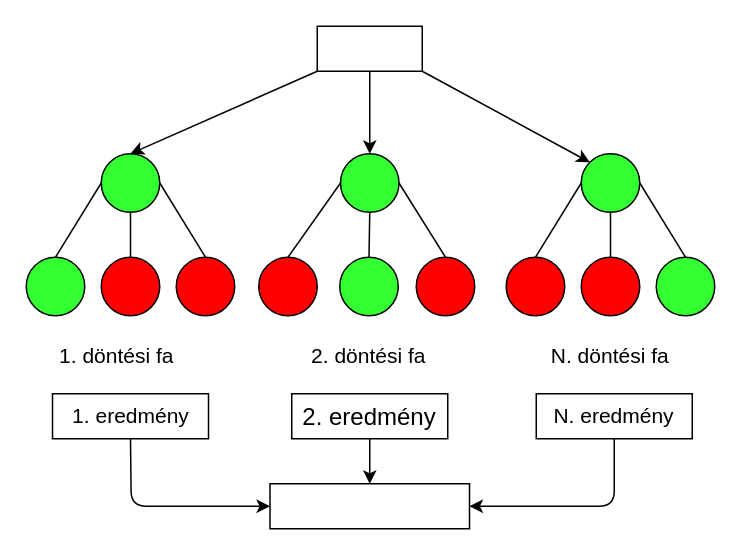
The diagram is 741 pixels wide and 555 high, and some of its shapes have lost their labels. The centre of each missing label's shape, as x and y in pixels:
Adatok: the point at 369,48
Eredmények átlaga: the point at 369,505
